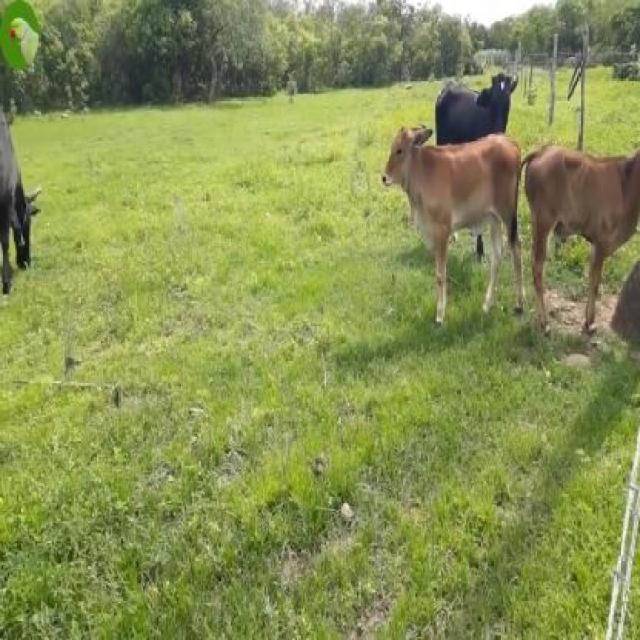Cow: (383, 123, 526, 322)
